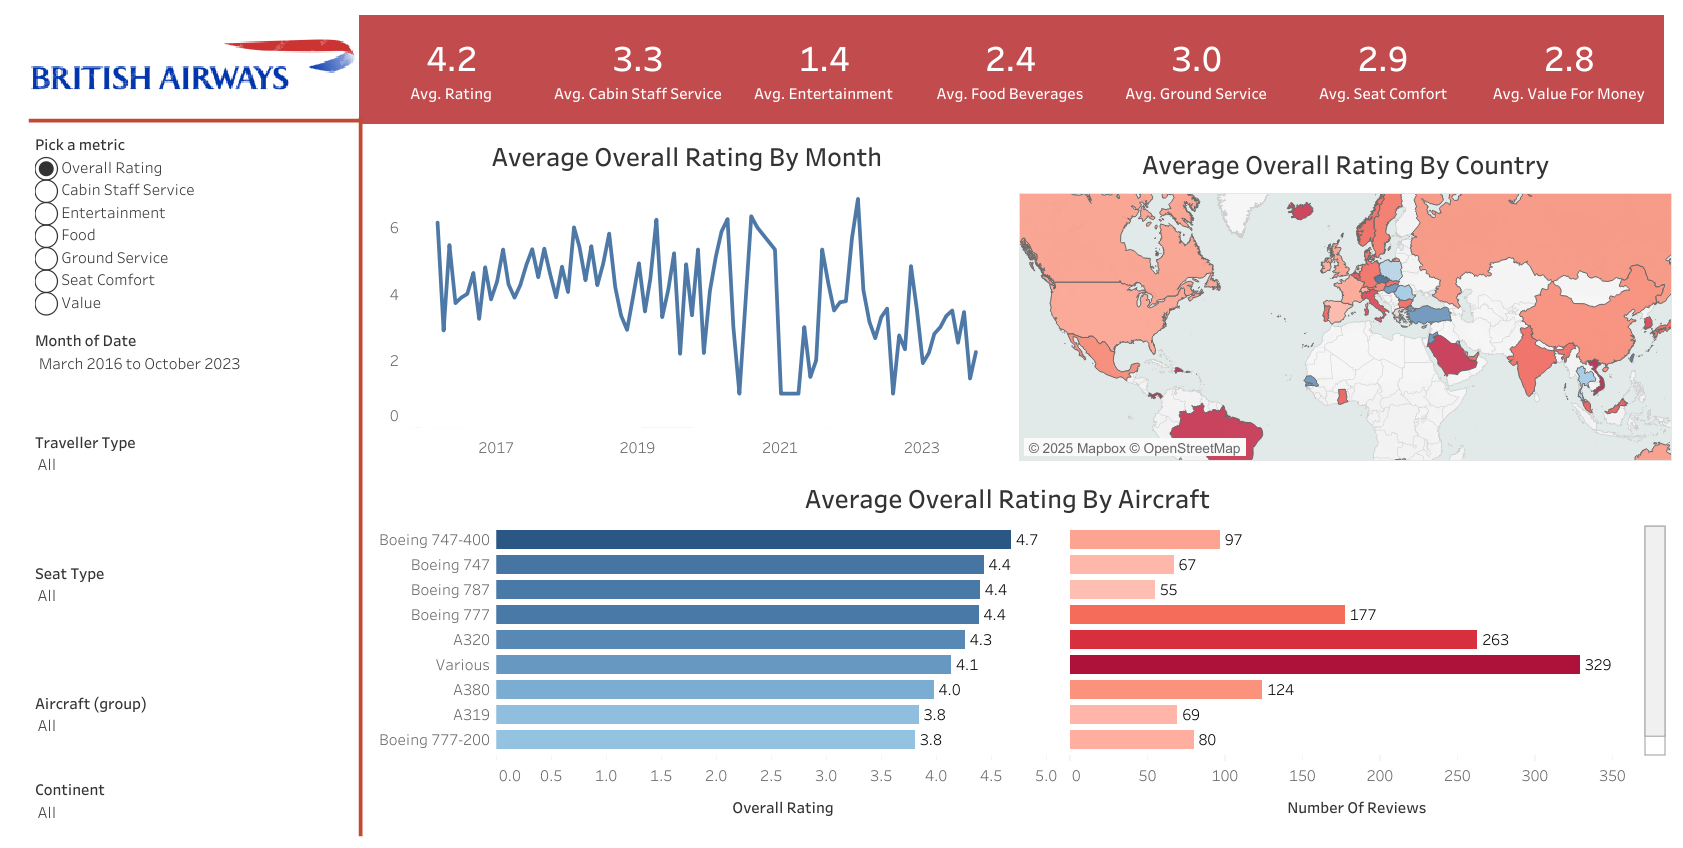

The page's visual inventory and layout, read from the dashboard file:
{"tool":"tableau","page":{"name":"Dashboard 1","canvas":[1347,679],"ordinal":0},"visuals":[{"type":"worksheet","title":"Summary","mark":"Automatic","box":[287,12,1043,86]},{"type":"image","param":"Image/british-airways (1).png","box":[25,13,259,86]},{"type":"blank","box":[287,94,3,575]},{"type":"blank","box":[23,95,266,3]},{"type":"blank","box":[100,100,449,226]},{"type":"parameter","param":"[Parameters].[Parameter 1]","box":[24,101,258,157]},{"type":"worksheet","title":"Month","mark":"Automatic","rows":["Calculation_1377538566251728896"],"cols":["date"],"box":[296,105,507,266]},{"type":"worksheet","title":"Map","mark":"Automatic","box":[815,111,523,258]},{"type":"filter","title":"Map","param":"[federated.0b5ttsw080qwub1buj0ky02o06tm].[tmn:date:qk]","box":[24,258,258,81]},{"type":"filter","title":"Map","param":"[federated.0b5ttsw080qwub1buj0ky02o06tm].[none:traveller_type:nk]","box":[24,339,258,105]},{"type":"worksheet","title":"Aircraft","mark":"Automatic","cols":["Calculation_1377538566251728896","ba_reviews.csv_5588B4CD54F34DF39A5063ADA24A2C0E"],"box":[297,378,1036,283]},{"type":"filter","title":"Map","param":"[federated.0b5ttsw080qwub1buj0ky02o06tm].[none:seat_type:nk]","box":[24,444,258,104]},{"type":"filter","title":"Map","param":"[federated.0b5ttsw080qwub1buj0ky02o06tm].[Aircraft (group)]","box":[24,548,258,69]},{"type":"filter","title":"Map","param":"[federated.0b5ttsw080qwub1buj0ky02o06tm].[none:Continent:nk]","box":[24,617,258,52]}]}

Visuals, with their boxes in screenshot pixels (x1, y1, x2, y2), scaled from the page's 1347x679 canvas onto the 1683x848 screenshot:
"Summary" worksheet: {"x1": 359, "y1": 15, "x2": 1662, "y2": 122}
image: {"x1": 31, "y1": 16, "x2": 355, "y2": 124}
blank: {"x1": 359, "y1": 117, "x2": 362, "y2": 836}
blank: {"x1": 29, "y1": 119, "x2": 361, "y2": 122}
blank: {"x1": 125, "y1": 125, "x2": 686, "y2": 407}
parameter: {"x1": 30, "y1": 126, "x2": 352, "y2": 322}
"Month" worksheet: {"x1": 370, "y1": 131, "x2": 1003, "y2": 463}
"Map" worksheet: {"x1": 1018, "y1": 139, "x2": 1672, "y2": 461}
"Map" filter: {"x1": 30, "y1": 322, "x2": 352, "y2": 423}
"Map" filter: {"x1": 30, "y1": 423, "x2": 352, "y2": 555}
"Aircraft" worksheet: {"x1": 371, "y1": 472, "x2": 1666, "y2": 826}
"Map" filter: {"x1": 30, "y1": 555, "x2": 352, "y2": 684}
"Map" filter: {"x1": 30, "y1": 684, "x2": 352, "y2": 771}
"Map" filter: {"x1": 30, "y1": 771, "x2": 352, "y2": 836}
